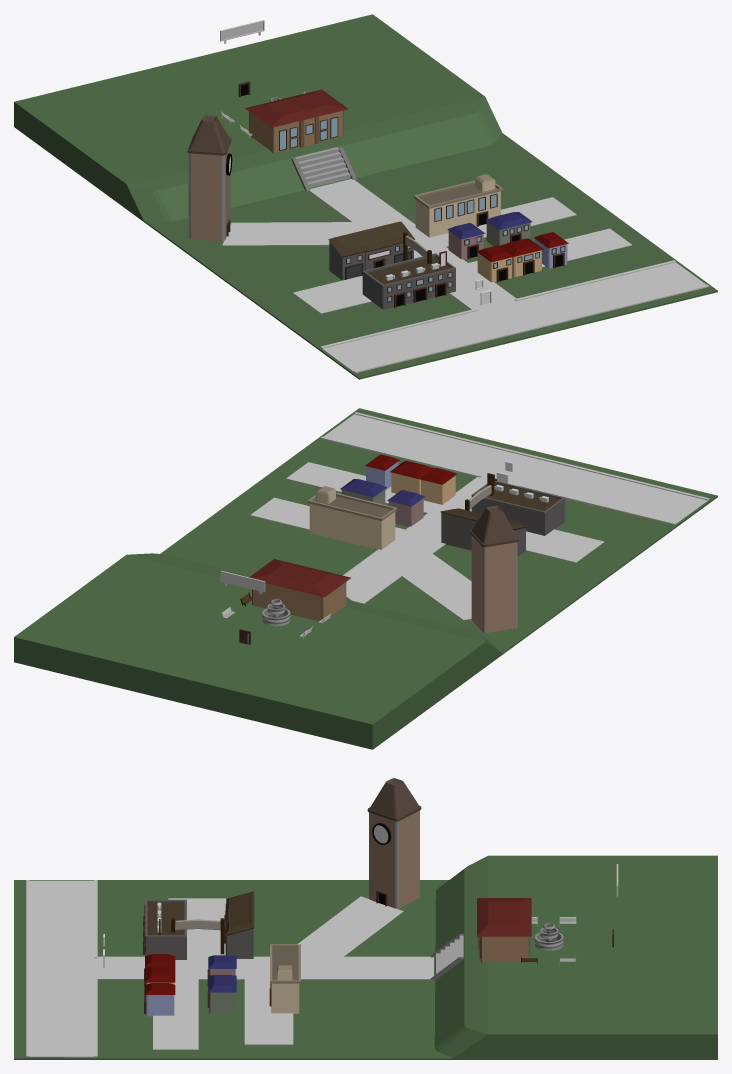
File: House1.fbx
3 renders of one model, top to bottom at view 1: azimuth 30°, elevation 25°; view 2: azimuth 150°, elevation 25°; view 3: azimuth 270°, elevation 25°, orthographic.
Visible parts, largest first — view 1: Cube, Cube.015, Cube.059, Cube.003, Cube.002, Cube.009, Cube.005, Cube.049, Cube.006, Cube.014, Cube.008, Cube.004 (+1 smaller); view 2: Cube, Cube.015, Cube.059, Cube.003, Cube.002, Cube.009, Cube.005, Cube.008, Cube.004, Cube.014, Cube.006, Cube.007 (+2 smaller); view 3: Cube, Cube.015, Cube.059, Cube.003, Cube.009, Cube.002, Cube.005, Cube.006, Cube.007, Cube.049, Cube.058, Cylinder (+2 smaller).
Boxes of the visible parts, left/top/right/bottom form: Cube: left=14, top=14, right=717, bottom=379; Cube.015: left=222, top=179, right=709, bottom=373; Cube.059: left=187, top=115, right=232, bottom=241; Cube.003: left=238, top=81, right=348, bottom=152; Cube.002: left=413, top=174, right=503, bottom=237; Cube.009: left=362, top=253, right=455, bottom=309; Cube.005: left=328, top=221, right=414, bottom=280; Cube.049: left=291, top=146, right=356, bottom=191; Cube.006: left=485, top=212, right=532, bottom=246; Cube.014: left=500, top=238, right=543, bottom=276; Cube.008: left=476, top=245, right=513, bottom=282; Cube.004: left=447, top=223, right=484, bottom=259; Cube: left=14, top=408, right=717, bottom=749; Cube.015: left=250, top=412, right=709, bottom=620; Cube.059: left=470, top=505, right=518, bottom=632; Cube.003: left=239, top=559, right=350, bottom=644; Cube.002: left=307, top=486, right=397, bottom=549; Cube.009: left=471, top=481, right=564, bottom=535; Cube.005: left=440, top=508, right=526, bottom=556; Cube.008: left=420, top=467, right=456, bottom=504; Cube.004: left=387, top=490, right=425, bottom=526; Cube.014: left=390, top=461, right=433, bottom=494; Cube.006: left=340, top=479, right=386, bottom=504; Cube.007: left=365, top=454, right=399, bottom=490; Cube: left=14, top=855, right=717, bottom=1059; Cube.015: left=26, top=880, right=433, bottom=1057; Cube.059: left=367, top=778, right=421, bottom=908; Cube.003: left=477, top=898, right=613, bottom=962; Cube.009: left=143, top=899, right=186, bottom=959; Cube.002: left=269, top=944, right=300, bottom=1013; Cube.005: left=224, top=891, right=254, bottom=958; Cube.006: left=207, top=975, right=236, bottom=1013; Cube.007: left=144, top=983, right=175, bottom=1016; Cube.049: left=430, top=934, right=463, bottom=980; Cube.058: left=171, top=918, right=224, bottom=954; Cylinder: left=535, top=922, right=563, bottom=950.
Bounding box in the file's own units: 34783 × 10788 × 57965.
